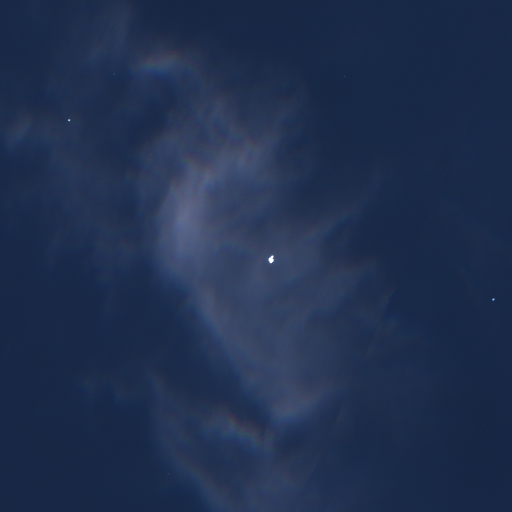Iceberg: (268, 255, 274, 263), (68, 119, 70, 121), (492, 298, 494, 300)
